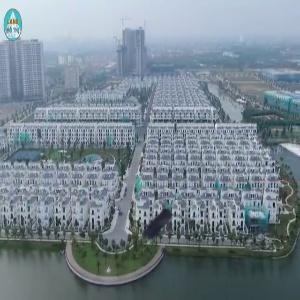drone: (116, 184, 213, 281)
